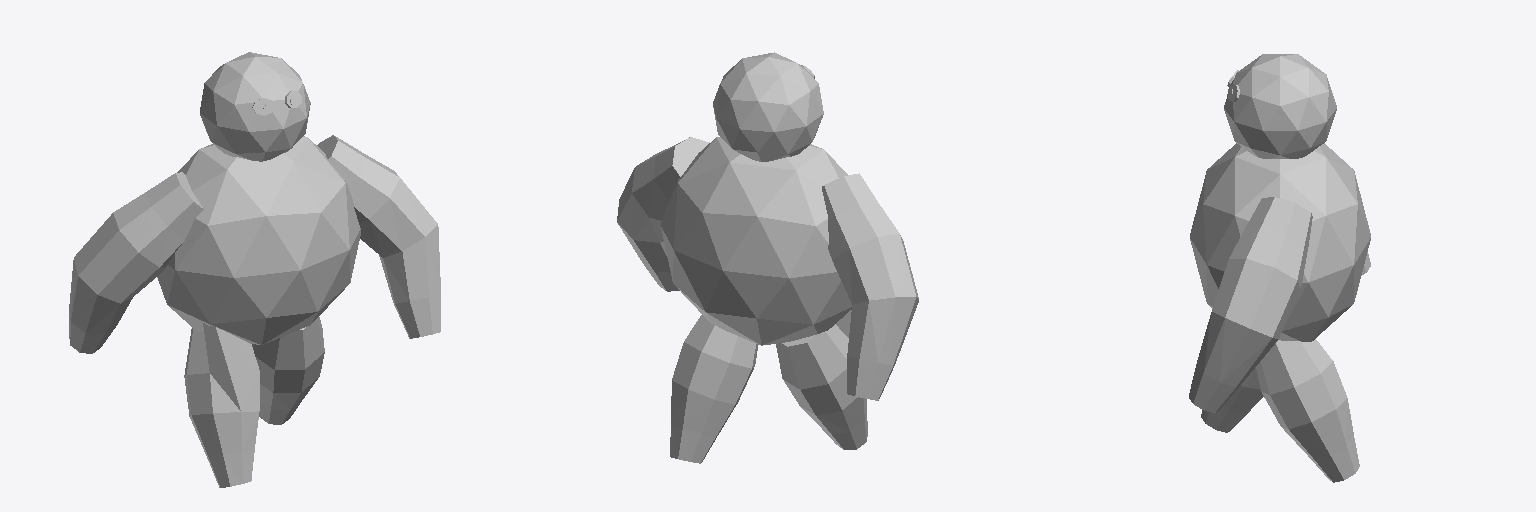
Rendered from bigboi_rigged_000003.obj.
The picture shows the model from 3 angles: view 1: azimuth 30°, elevation 25°; view 2: azimuth 150°, elevation 25°; view 3: azimuth 270°, elevation 25°; orthographic projection.
Parts seen in each view (by area): view 1: Cube; view 2: Cube; view 3: Cube.
Part boxes in pixels (left/top/right/bottom): Cube: left=69, top=52, right=440, bottom=487; Cube: left=617, top=52, right=918, bottom=463; Cube: left=1189, top=54, right=1370, bottom=482.
Size of the model in its own units: 6.63 by 7.73 by 3.22.